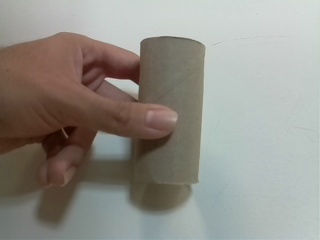rollo papel: (131, 35, 209, 189)
